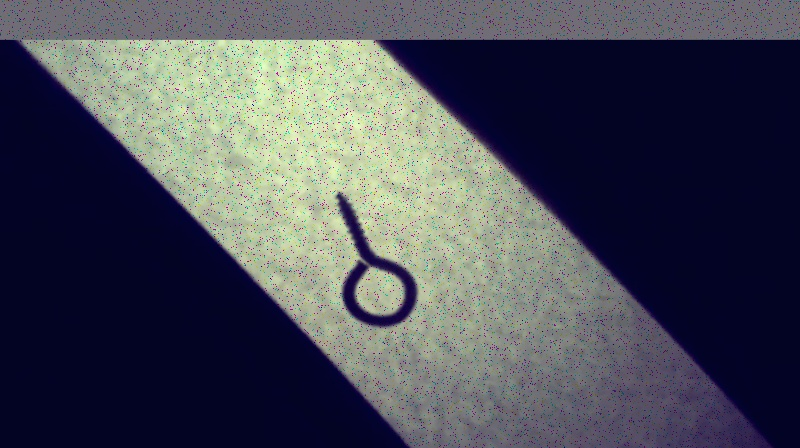O001: (331, 188, 422, 329)
